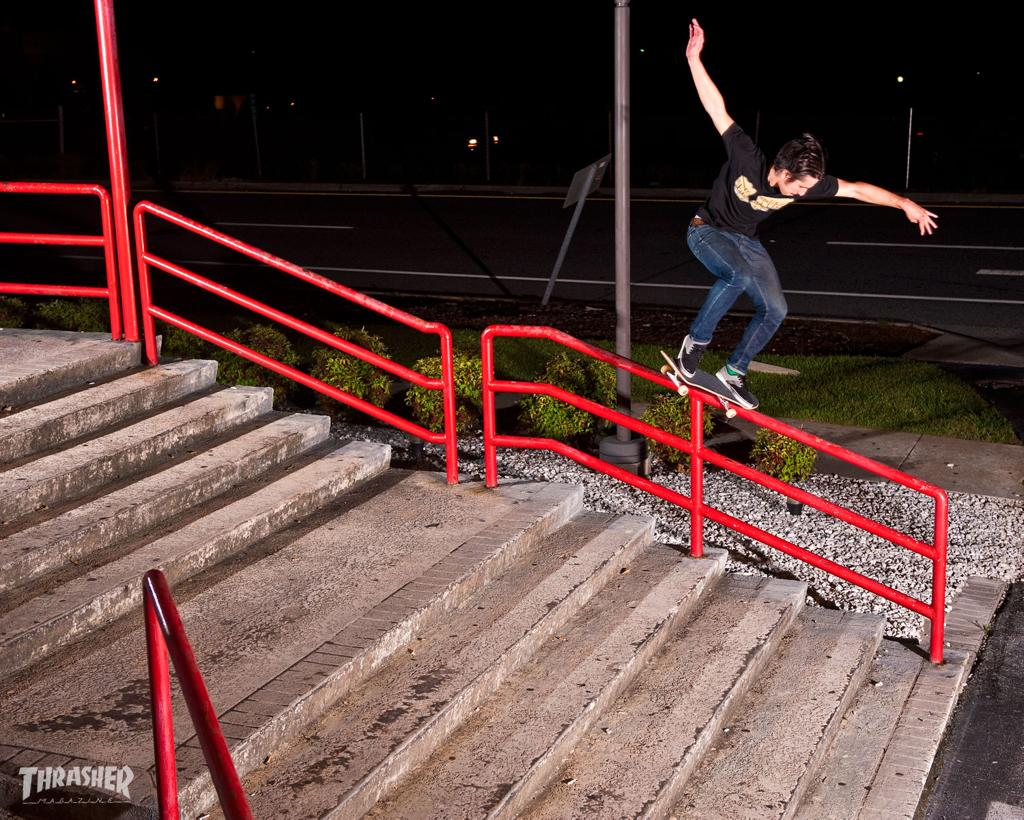face: (780, 169, 818, 195)
